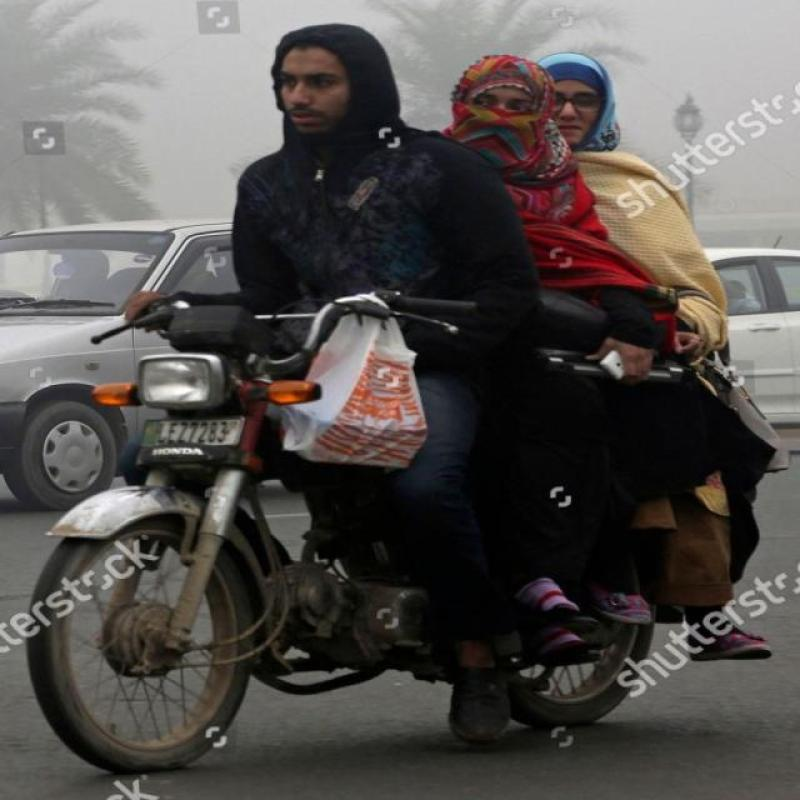nohelmet: (228, 5, 447, 169)
